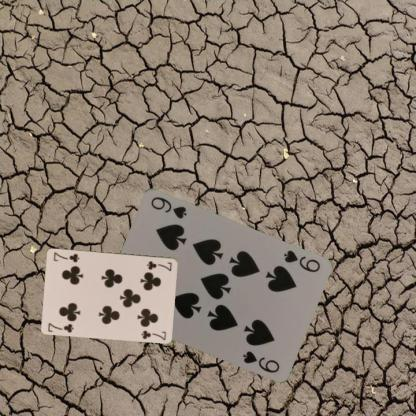7c: (144, 258, 173, 272), (46, 320, 75, 333)
9s: (280, 247, 321, 274)
